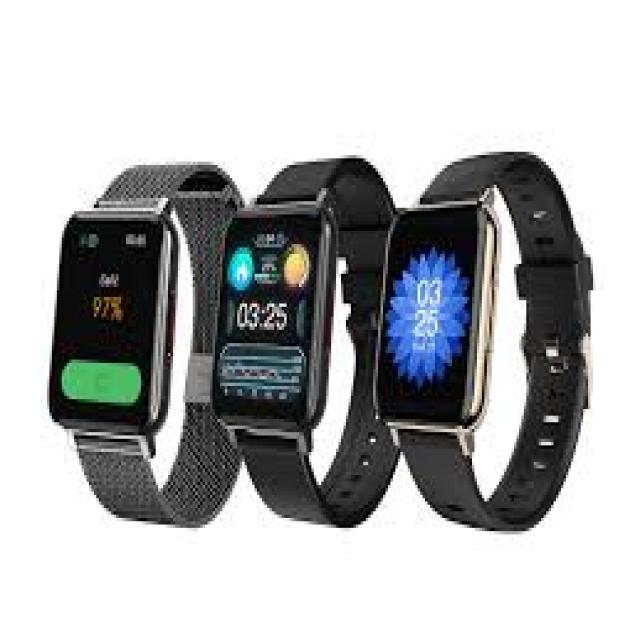objects: (391, 151, 589, 537), (217, 160, 390, 528), (44, 160, 208, 524)
